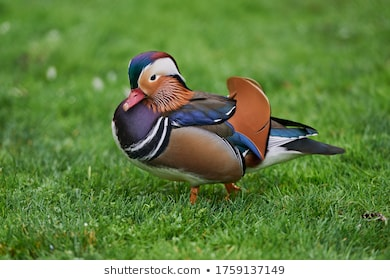duck: (106, 45, 343, 209)
